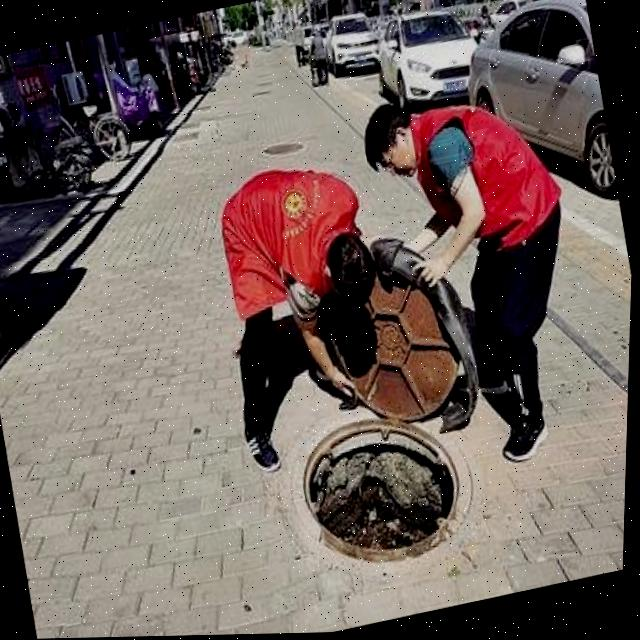manhole: (281, 394, 484, 585)
